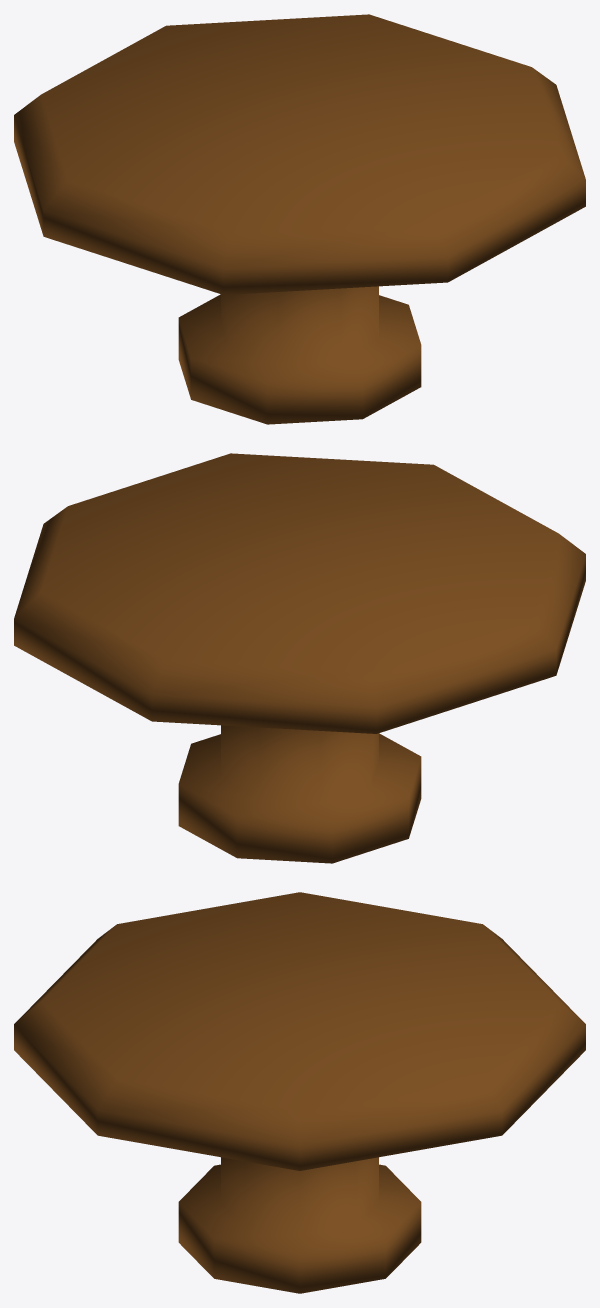
The model's file is table.glb.
3 views of the same model, one above another, from view 1: azimuth 30°, elevation 25°; view 2: azimuth 150°, elevation 25°; view 3: azimuth 270°, elevation 25° (orthographic). The views are drawn at different scales.
Visible parts, largest first — view 1: table; view 2: table; view 3: table.
Boxes of the visible parts, x1,y1,x2,y2 form: table: (14, 14, 585, 424); table: (14, 453, 585, 863); table: (14, 892, 585, 1293).
Bounding box in the file's own units: 3.36 × 1.56 × 3.36.
